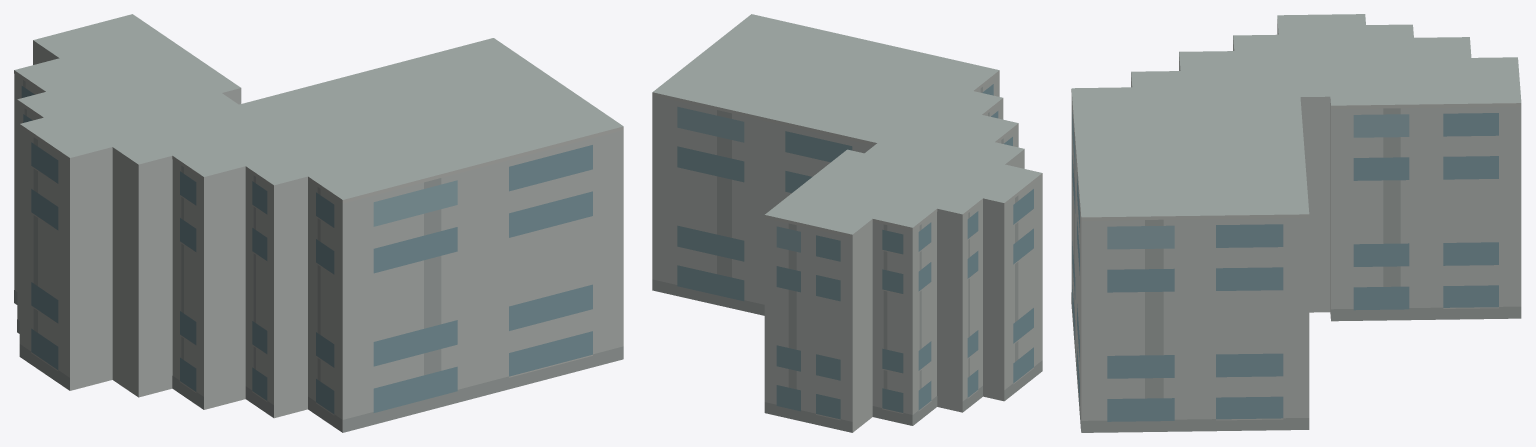
File: residential-17e3f3b1-dbba-47df-a095-cb4cb3e59cb1.glb
The picture shows the model from 3 angles, left to right: view 1: azimuth 30°, elevation 25°; view 2: azimuth 150°, elevation 25°; view 3: azimuth 270°, elevation 25°; orthographic projection. The views are drawn at different scales.
Parts seen in each view (by area): view 1: residential-17e3f3b1-dbba-47df-a095-cb4cb3e59cb1.tmp; view 2: residential-17e3f3b1-dbba-47df-a095-cb4cb3e59cb1.tmp; view 3: residential-17e3f3b1-dbba-47df-a095-cb4cb3e59cb1.tmp.
Boxes of the visible parts, x1=… form: residential-17e3f3b1-dbba-47df-a095-cb4cb3e59cb1.tmp: x1=14, y1=14, x2=623, y2=432; residential-17e3f3b1-dbba-47df-a095-cb4cb3e59cb1.tmp: x1=652, y1=14, x2=1042, y2=432; residential-17e3f3b1-dbba-47df-a095-cb4cb3e59cb1.tmp: x1=1071, y1=14, x2=1521, y2=432.
Bounding box in the file's own units: 30.88 × 15.25 × 28.87.
